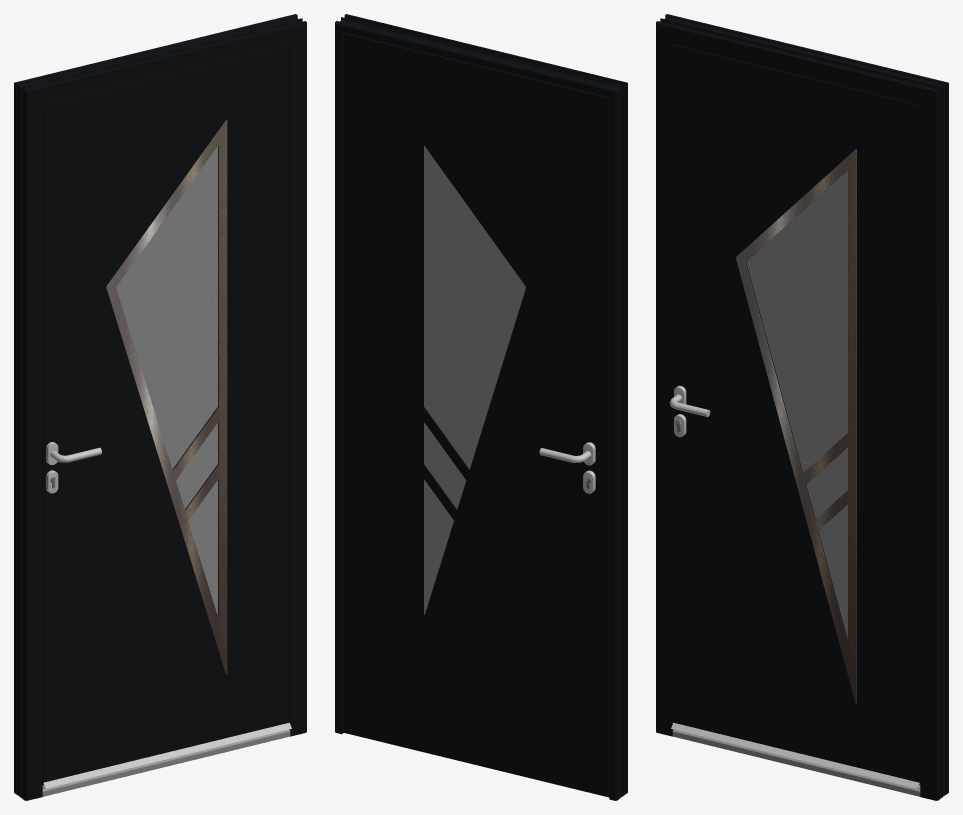
The picture shows the model from 3 angles, left to right: view 1: azimuth 30°, elevation 25°; view 2: azimuth 150°, elevation 25°; view 3: azimuth 330°, elevation 25°; orthographic projection.
Visible parts, largest first — view 1: bloco_37, aroFixo, Box001, alunox_23, aroMovel, rodapé, escovas, puxador001; view 2: bloco_37, aroFixo, Box001, aroMovel, puxador; view 3: bloco_37, aroFixo, Box001, alunox_23, aroMovel, rodapé, escovas, puxador001.
Boxes of the visible parts, <box> form: bloco_37: <box>44,46,289,782</box>; aroFixo: <box>14,14,306,800</box>; Box001: <box>116,146,217,614</box>; alunox_23: <box>106,120,227,674</box>; aroMovel: <box>42,44,289,784</box>; rodapé: <box>42,729,290,796</box>; escovas: <box>42,722,291,788</box>; puxador001: <box>46,442,101,493</box>; bloco_37: <box>343,34,607,796</box>; aroFixo: <box>335,14,627,800</box>; Box001: <box>424,146,525,614</box>; aroMovel: <box>343,32,609,796</box>; puxador: <box>539,442,595,493</box>; bloco_37: <box>673,46,918,782</box>; aroFixo: <box>656,14,948,800</box>; Box001: <box>746,171,847,638</box>; alunox_23: <box>735,149,856,703</box>; aroMovel: <box>673,44,920,784</box>; rodapé: <box>672,729,920,796</box>; escovas: <box>671,722,920,788</box>; puxador001: <box>669,385,710,437</box>.
Bounding box in the file's own units: 900 × 2165 × 209.
Materials: 7 (2 with a texture image).
